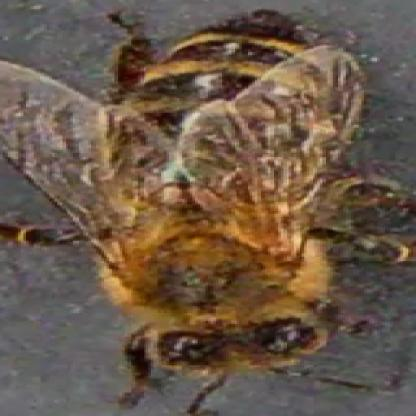bee: (82, 15, 335, 375)
